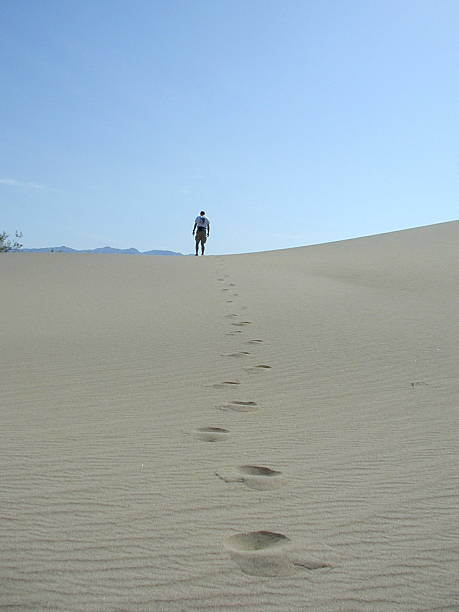human_footprint: (223, 530, 330, 575), (228, 468, 290, 488), (195, 422, 223, 446), (230, 400, 262, 414), (255, 360, 273, 376), (228, 354, 253, 360)
